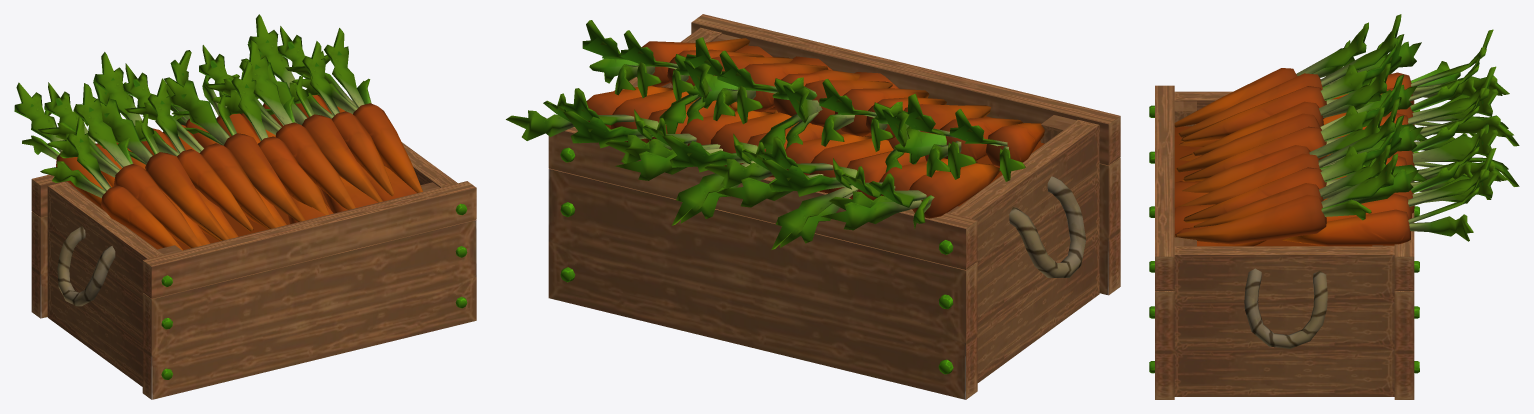
Rendered from FarmCrate_Carrot.glb.
The picture shows the model from 3 angles, left to right: view 1: azimuth 30°, elevation 25°; view 2: azimuth 150°, elevation 25°; view 3: azimuth 270°, elevation 25°; orthographic projection. The views are drawn at different scales.
Visible parts, largest first — view 1: FarmCrate_Carrot; view 2: FarmCrate_Carrot; view 3: FarmCrate_Carrot.
Boxes of the visible parts, bbox=[...] form: FarmCrate_Carrot: bbox=[14, 14, 476, 399]; FarmCrate_Carrot: bbox=[506, 14, 1120, 399]; FarmCrate_Carrot: bbox=[1149, 14, 1519, 399].
Bounding box in the file's own units: 0.7138 × 0.4113 × 0.567.
Materials: 3 (3 with a texture image).
